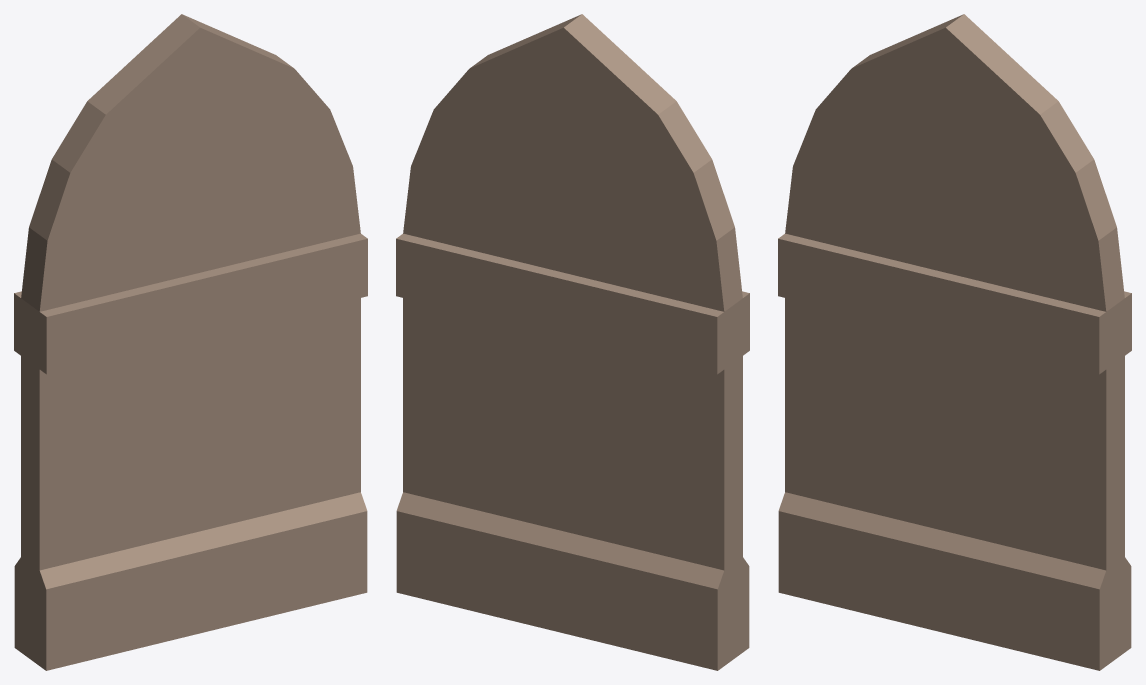
The model's file is Small_Door.fbx.
3 views of the same model, side by side, from view 1: azimuth 30°, elevation 25°; view 2: azimuth 150°, elevation 25°; view 3: azimuth 330°, elevation 25° (orthographic).
Visible parts, largest first — view 1: Small_door; view 2: Small_door; view 3: Small_door.
Part boxes in pixels (x1,y1,x2,y2): Small_door: [14, 14, 367, 670]; Small_door: [396, 14, 749, 670]; Small_door: [778, 14, 1131, 670].
Bounding box in the file's own units: 1.91 × 3.4 × 0.3353.
